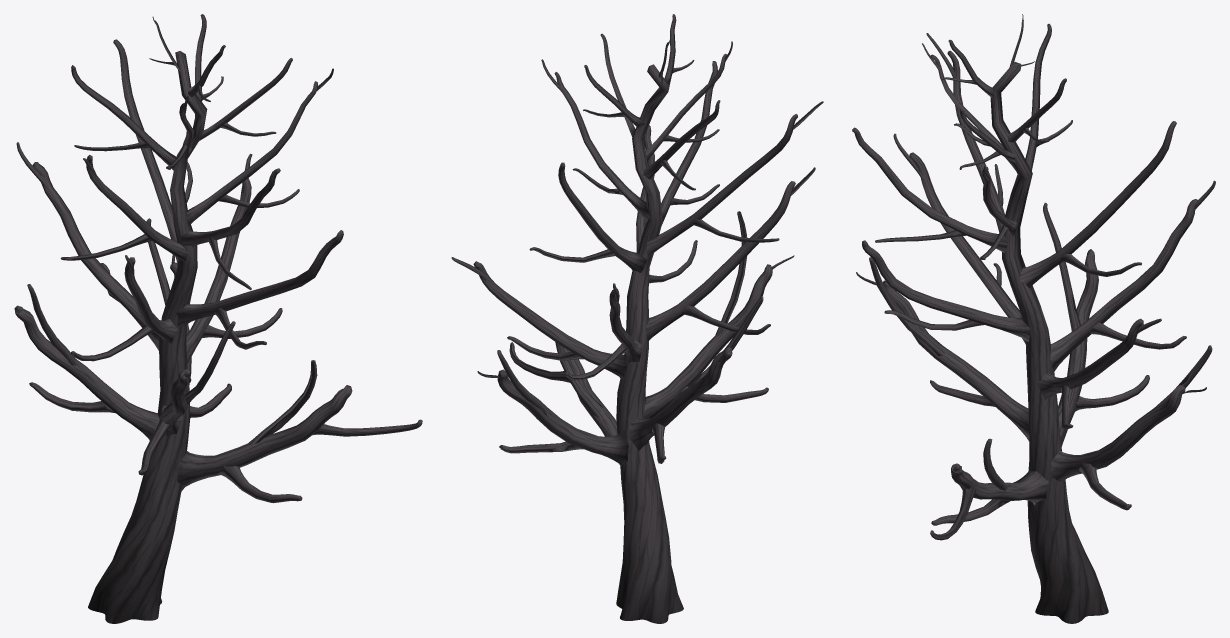
The model's file is dead-tree-mcd2zyqyww-transformed.glb.
3 renders of one model, left to right at view 1: azimuth 30°, elevation 25°; view 2: azimuth 150°, elevation 25°; view 3: azimuth 270°, elevation 25°, orthographic. The views are drawn at different scales.
Visible parts, largest first — view 1: DeadTree_2; view 2: DeadTree_2; view 3: DeadTree_2.
Boxes of the visible parts, <box> form: DeadTree_2: <box>14,14,422,623</box>; DeadTree_2: <box>451,14,823,623</box>; DeadTree_2: <box>852,14,1215,623</box>.
Bounding box in the file's own units: 6.73 × 11.49 × 6.38.
Materials: 1 (1 with a texture image).
